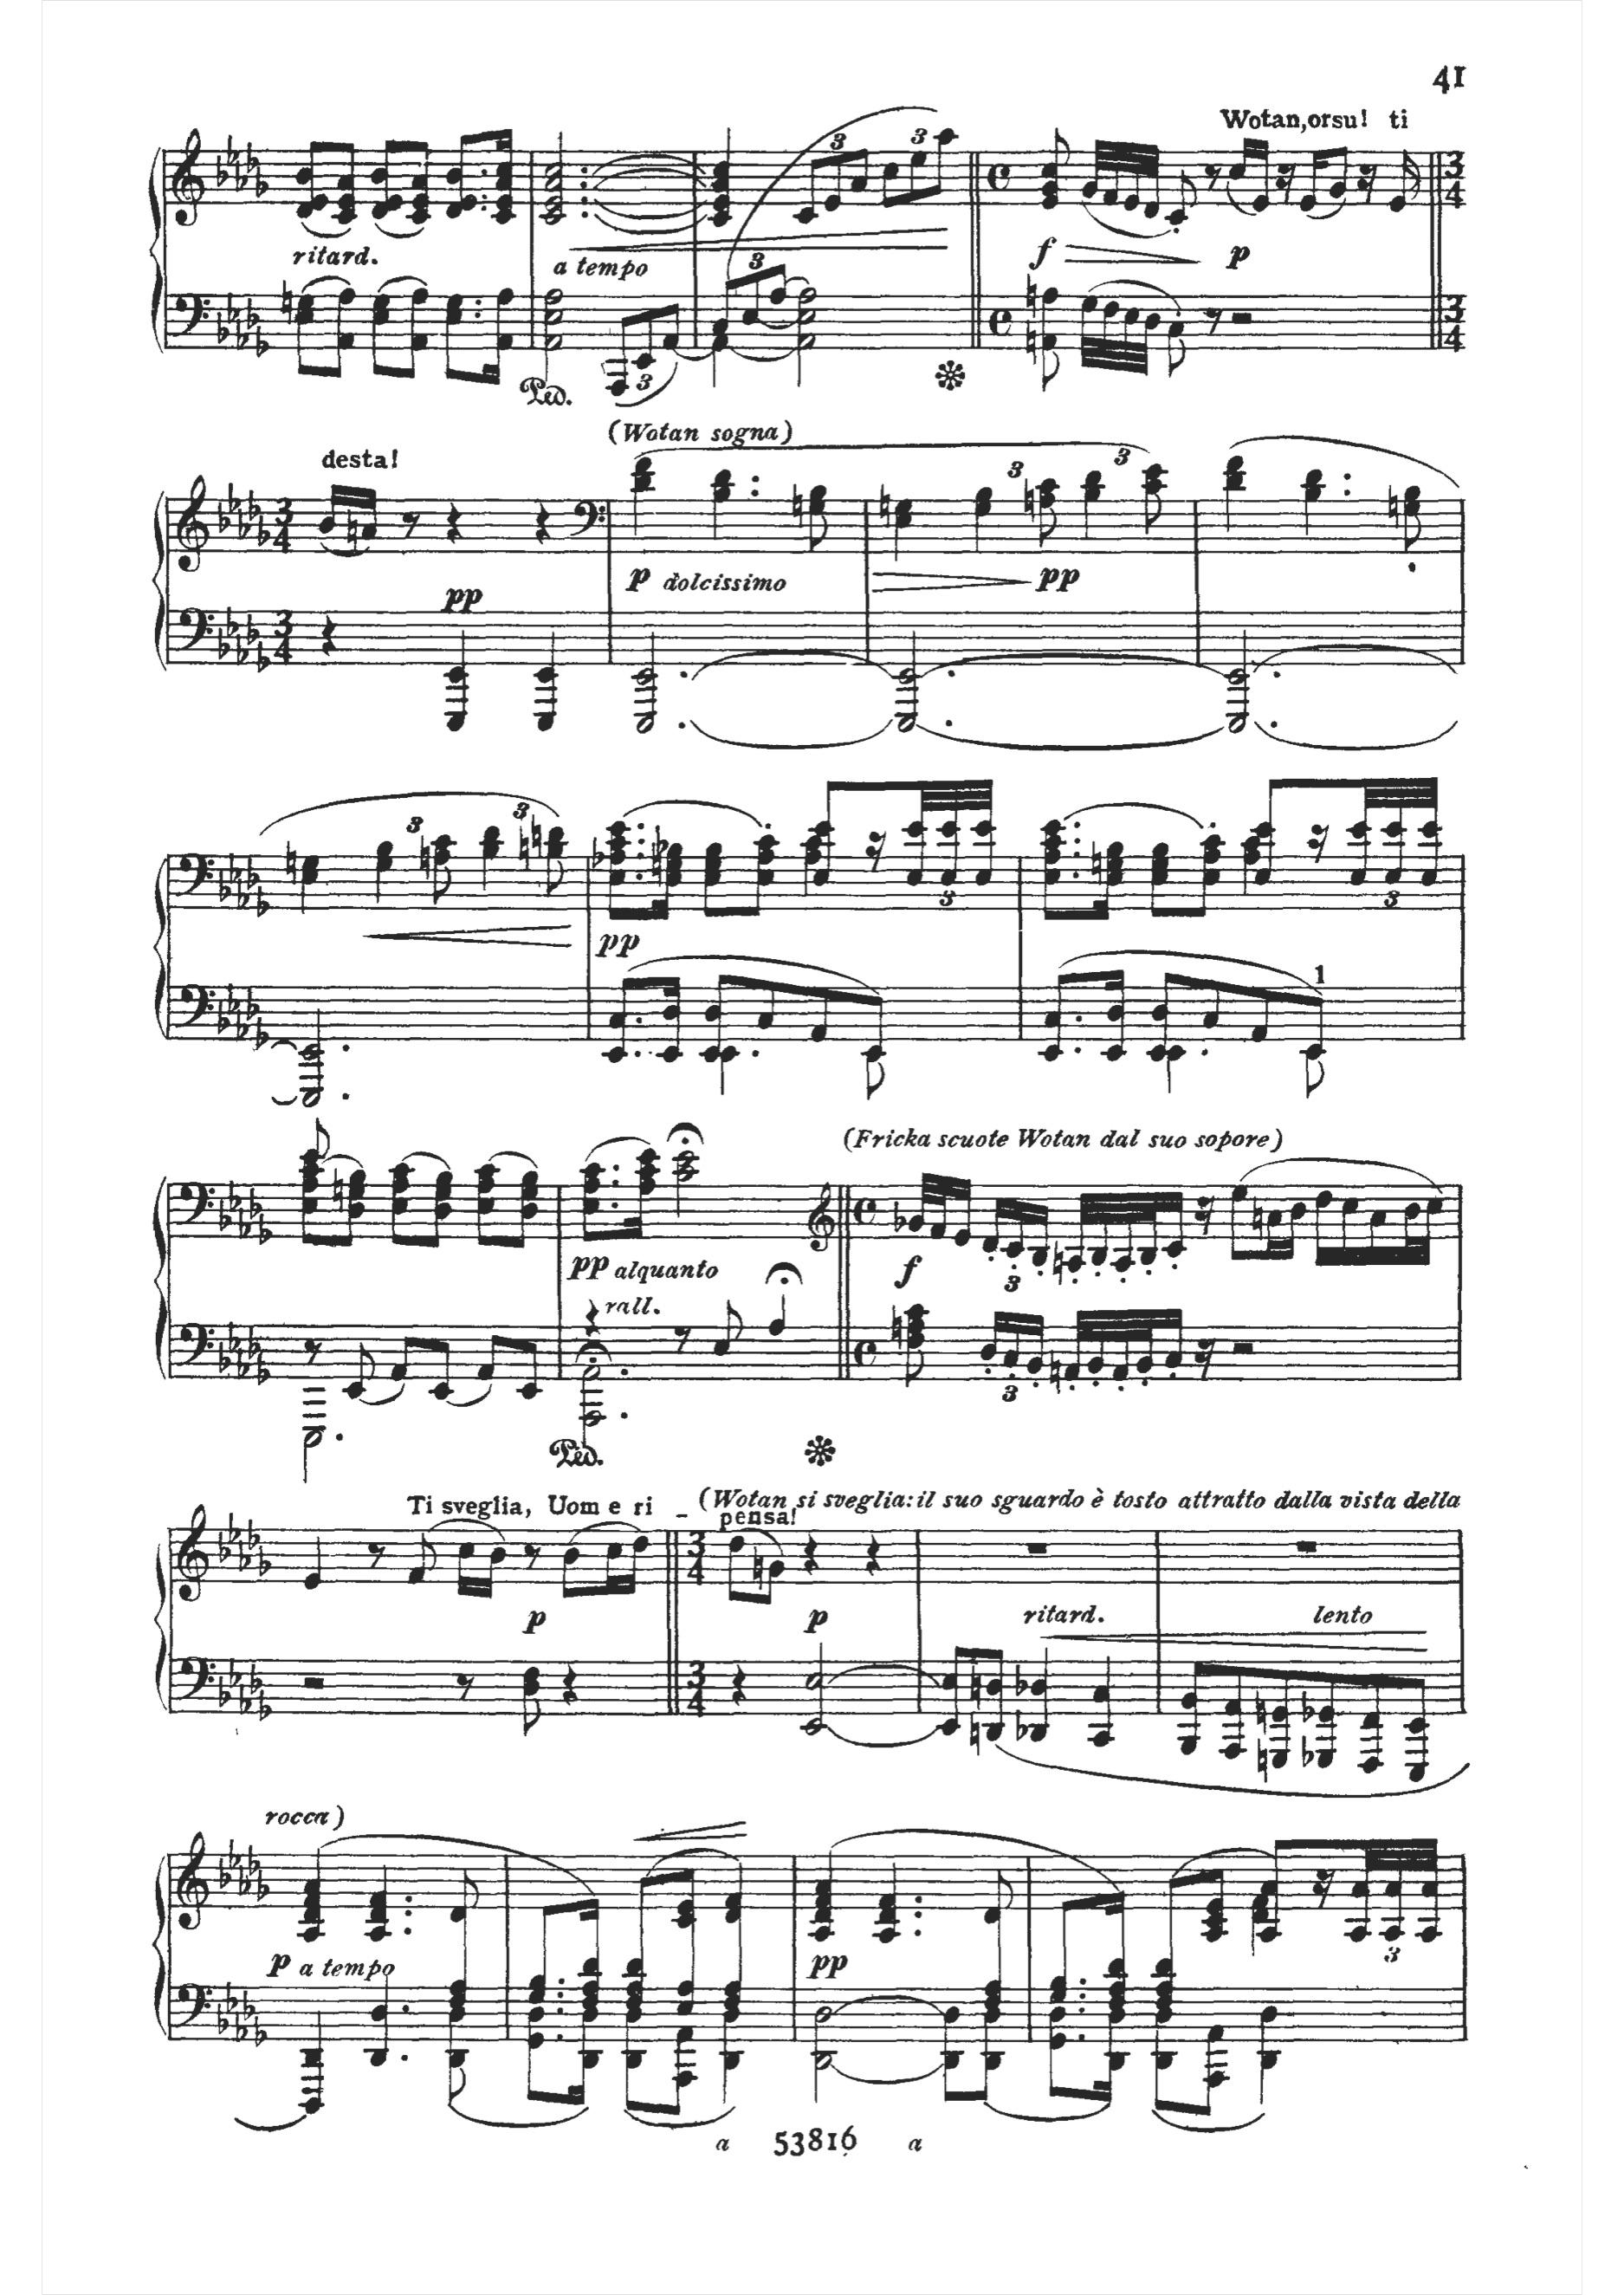3_4_time_sig: (271, 492, 299, 559), (271, 606, 299, 668)
bass_clef: (169, 283, 213, 351), (174, 599, 216, 662), (178, 1648, 216, 1712), (174, 1313, 214, 1372), (174, 1977, 213, 2035), (176, 979, 218, 1032), (178, 854, 214, 903)
flat: (176, 1177, 218, 1232), (251, 322, 274, 366), (251, 1010, 271, 1060), (246, 1183, 269, 1221), (253, 882, 274, 923), (213, 995, 232, 1037), (244, 1511, 264, 1553), (257, 1689, 278, 1727), (243, 847, 260, 893), (251, 162, 271, 202), (211, 309, 230, 350), (227, 1174, 246, 1214), (255, 640, 274, 678), (232, 2007, 251, 2045), (244, 610, 262, 652), (243, 1318, 260, 1360), (255, 1546, 276, 1582), (253, 1214, 276, 1246), (223, 1833, 243, 1870), (211, 2000, 230, 2037), (243, 134, 260, 174), (214, 497, 232, 538), (246, 481, 262, 525), (234, 504, 251, 543), (253, 1351, 272, 1386), (253, 1868, 272, 1903), (239, 1987, 258, 2023), (244, 1843, 265, 1875), (214, 627, 232, 664), (223, 601, 241, 638), (216, 1198, 234, 1235), (227, 1318, 244, 1355), (214, 1676, 232, 1713), (246, 1659, 264, 1694), (216, 1856, 234, 1891), (236, 1863, 253, 1898), (251, 2014, 269, 2049), (234, 880, 253, 912), (244, 989, 264, 1021), (227, 1652, 243, 1690), (216, 1341, 234, 1374), (234, 1007, 250, 1044), (237, 1346, 253, 1383), (211, 158, 230, 188), (246, 295, 262, 330), (225, 480, 241, 515), (227, 851, 243, 886), (236, 1207, 251, 1242), (214, 1531, 232, 1562), (227, 1509, 243, 1545), (237, 1541, 253, 1576), (216, 866, 230, 905), (232, 160, 248, 193), (225, 293, 241, 327), (257, 517, 272, 550), (225, 984, 241, 1017), (239, 1685, 255, 1719), (221, 1984, 241, 2010), (234, 634, 250, 666), (236, 318, 250, 353), (227, 134, 241, 165)
treble_clef: (172, 1497, 218, 1610), (172, 1826, 214, 1940), (170, 469, 213, 578), (165, 125, 209, 227)
